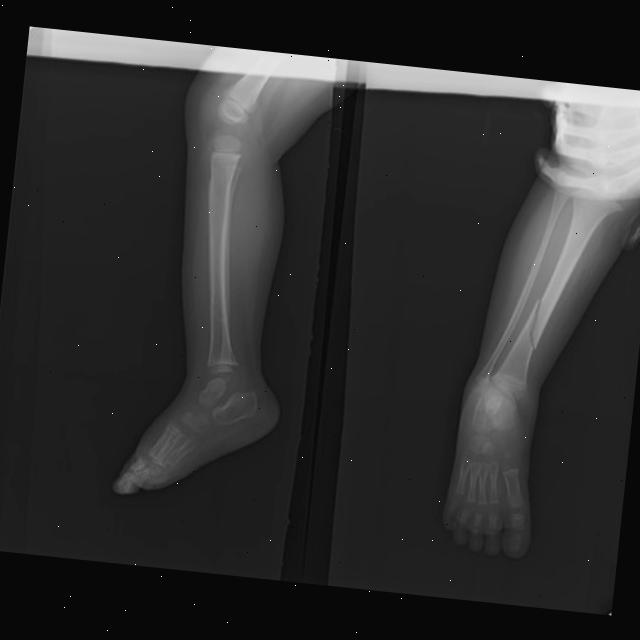fractured: (525, 291, 545, 353), (209, 289, 227, 324)
